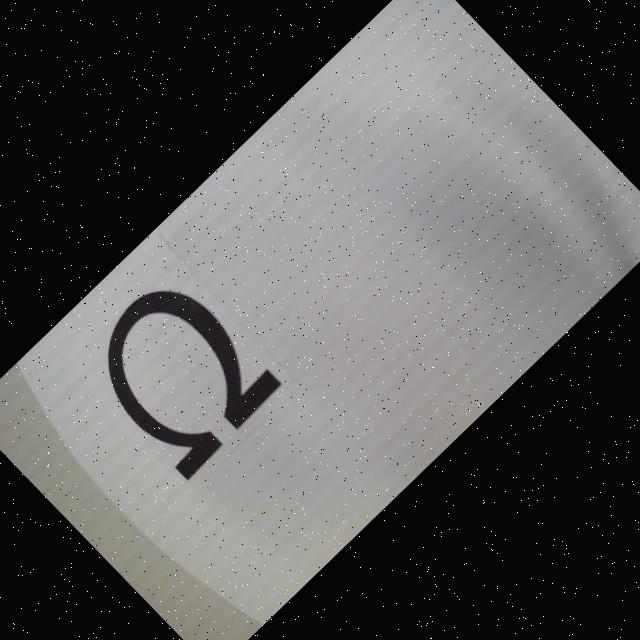OMEGA: (71, 266, 286, 481)
